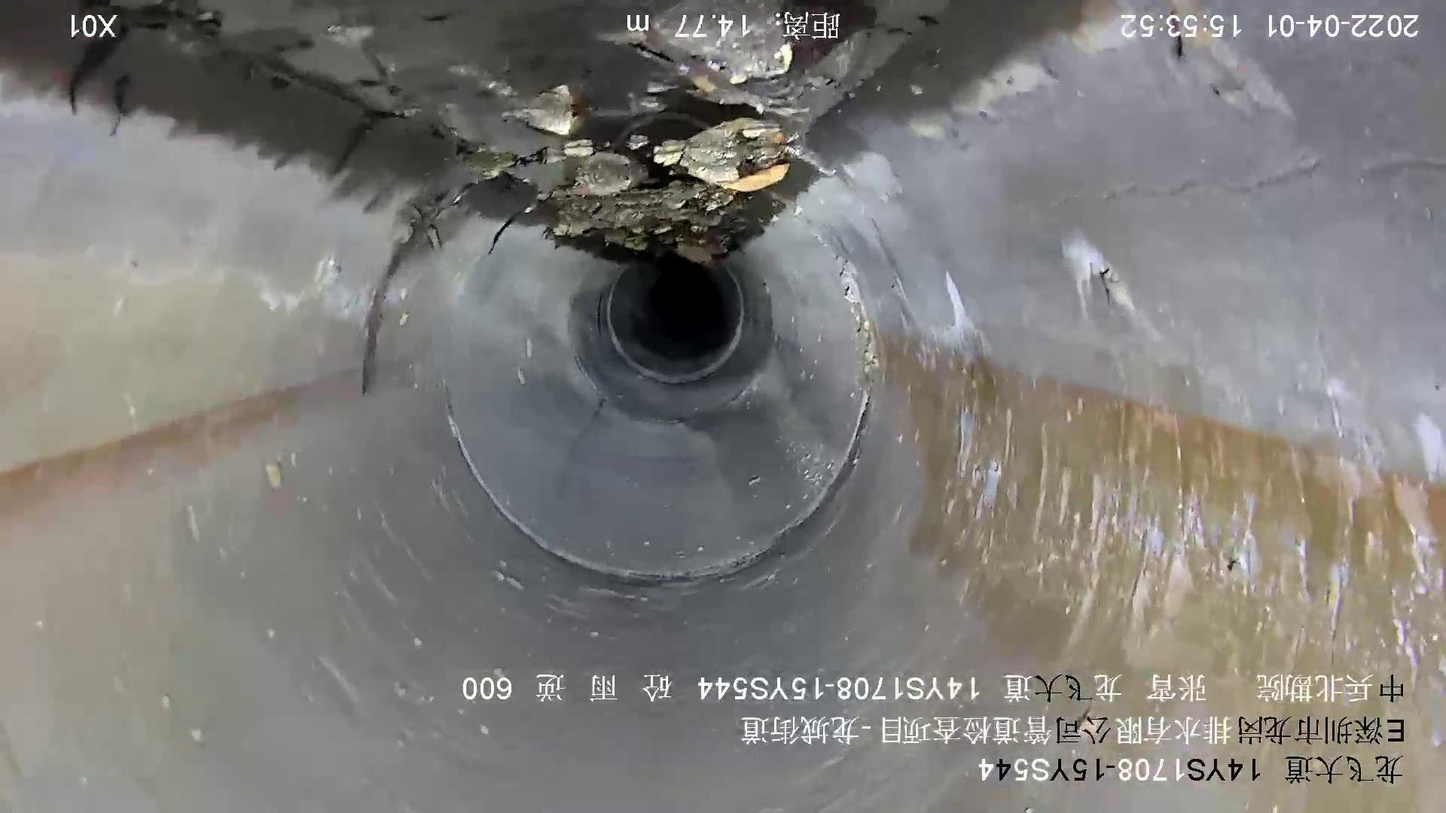CJ: (166, 1, 941, 262)
CKTJ: (438, 187, 883, 588), (603, 257, 748, 387)
